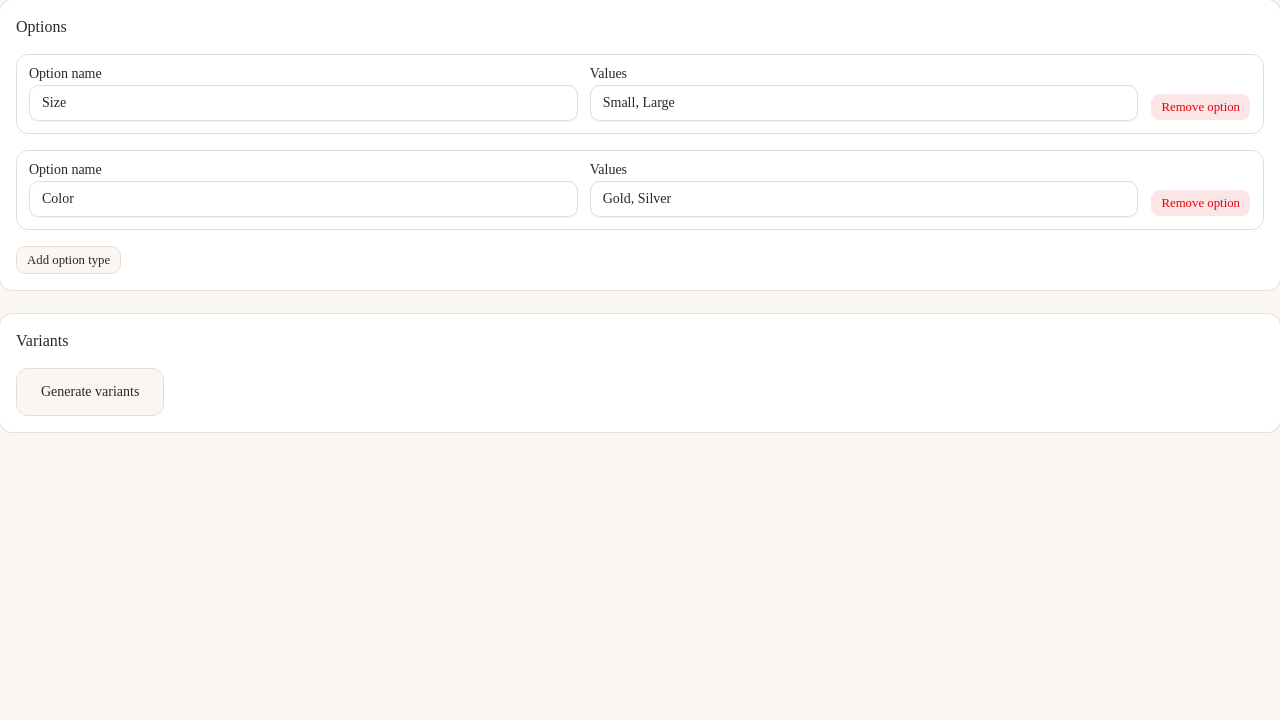
Test: VariantsBuilder › add option type appends a blank row and disables the button at 3 types
This screenshot has width=1280, height=720.
Click the button "Add option type" at (69, 260), box 16,246 -> 121,274
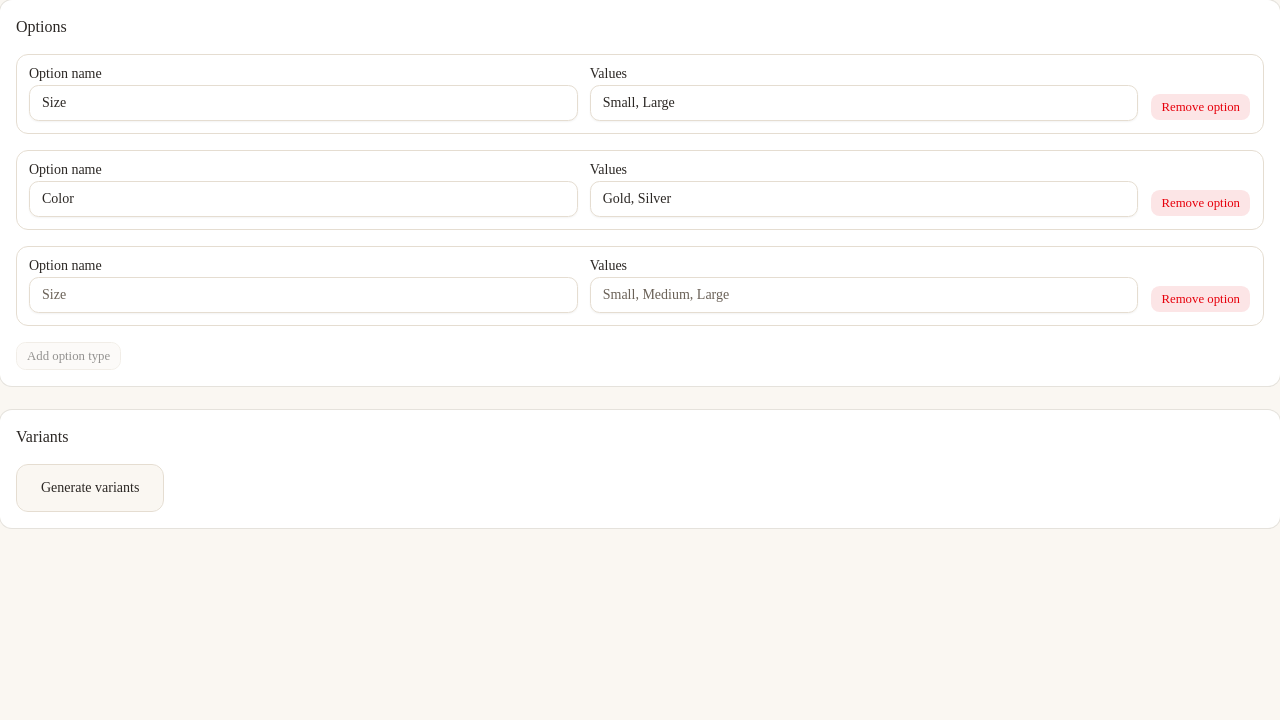
Expected: the button "Add option type" is disabled, 16,342 -> 121,370
